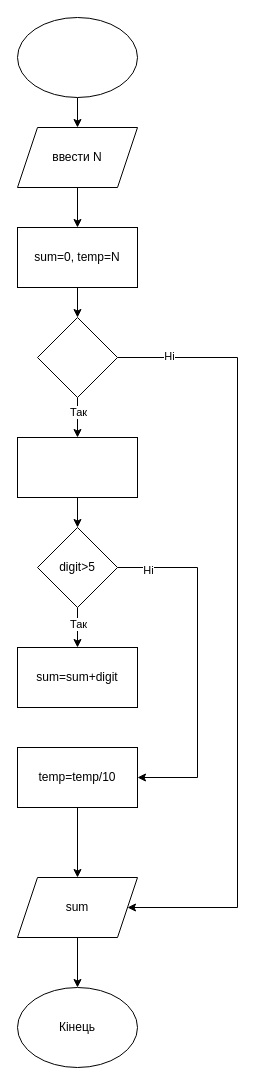
This 263x1085 diagram has some shape labels left out. The centre of each missing label's shape, as x and y in pixels:
digit=temp%10: point (77, 467)
temp>0: point (77, 357)
початок: point (77, 57)
